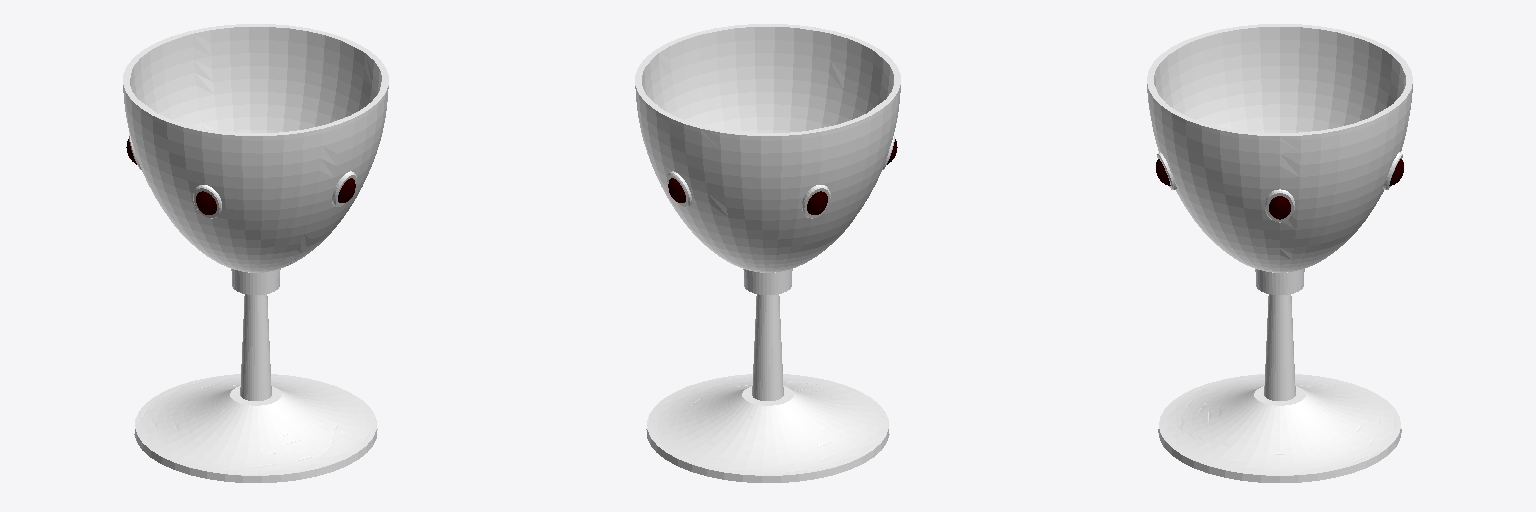
Rendered from goblet.obj.
The picture shows the model from 3 angles: view 1: azimuth 30°, elevation 25°; view 2: azimuth 150°, elevation 25°; view 3: azimuth 270°, elevation 25°; orthographic projection.
Parts seen in each view (by area): view 1: Layer_GOBLET, Layer_GOBLT_JWL; view 2: Layer_GOBLET, Layer_GOBLT_JWL; view 3: Layer_GOBLET, Layer_GOBLT_JWL.
Boxes of the visible parts, x1,y1,x2,y2 form: Layer_GOBLET: [123, 24, 388, 482]; Layer_GOBLT_JWL: [126, 139, 355, 214]; Layer_GOBLET: [635, 24, 900, 482]; Layer_GOBLT_JWL: [668, 139, 897, 214]; Layer_GOBLET: [1147, 24, 1412, 482]; Layer_GOBLT_JWL: [1156, 159, 1403, 219].
Bounding box in the file's own units: 0.1569 × 0.2286 × 0.1569.